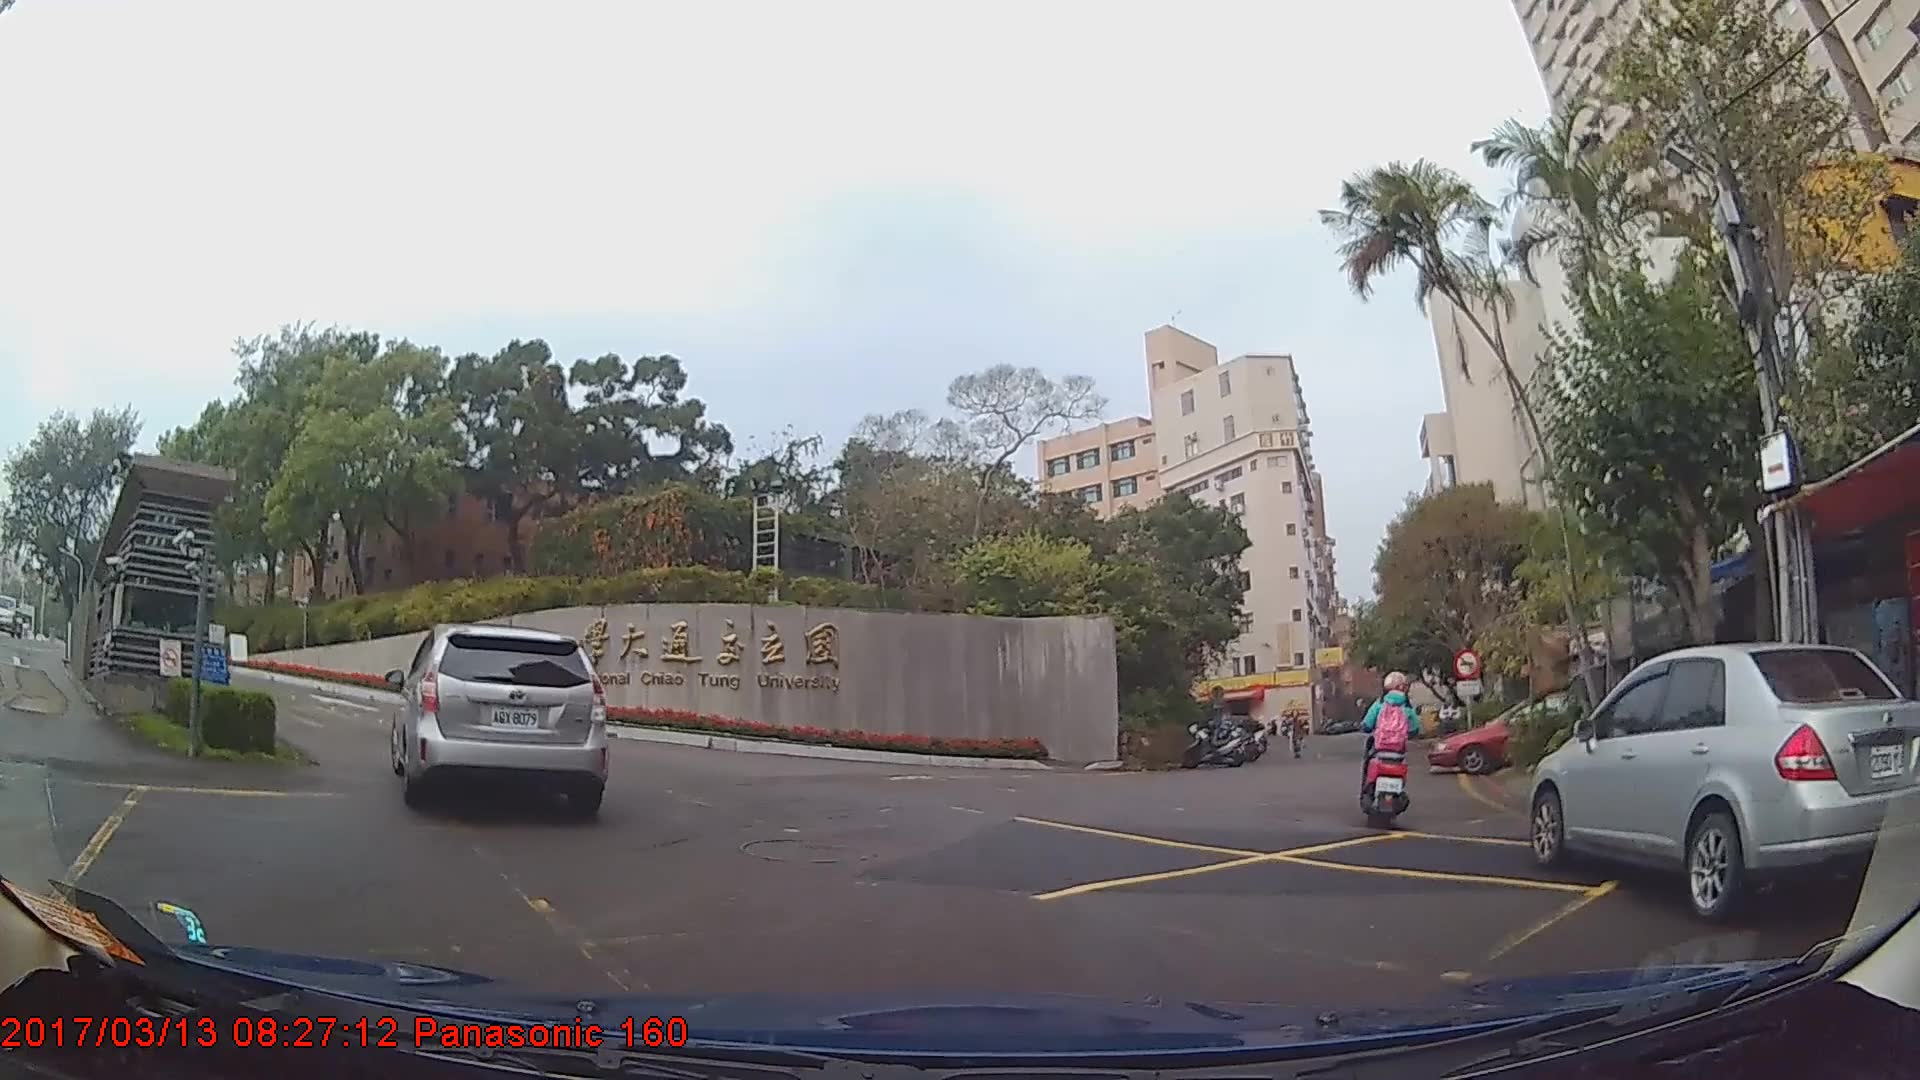pedestrian: (1286, 711, 1307, 763)
rider: (1353, 666, 1420, 833)
vehicle: (1528, 641, 1920, 923), (388, 621, 608, 817), (1429, 687, 1608, 772)
